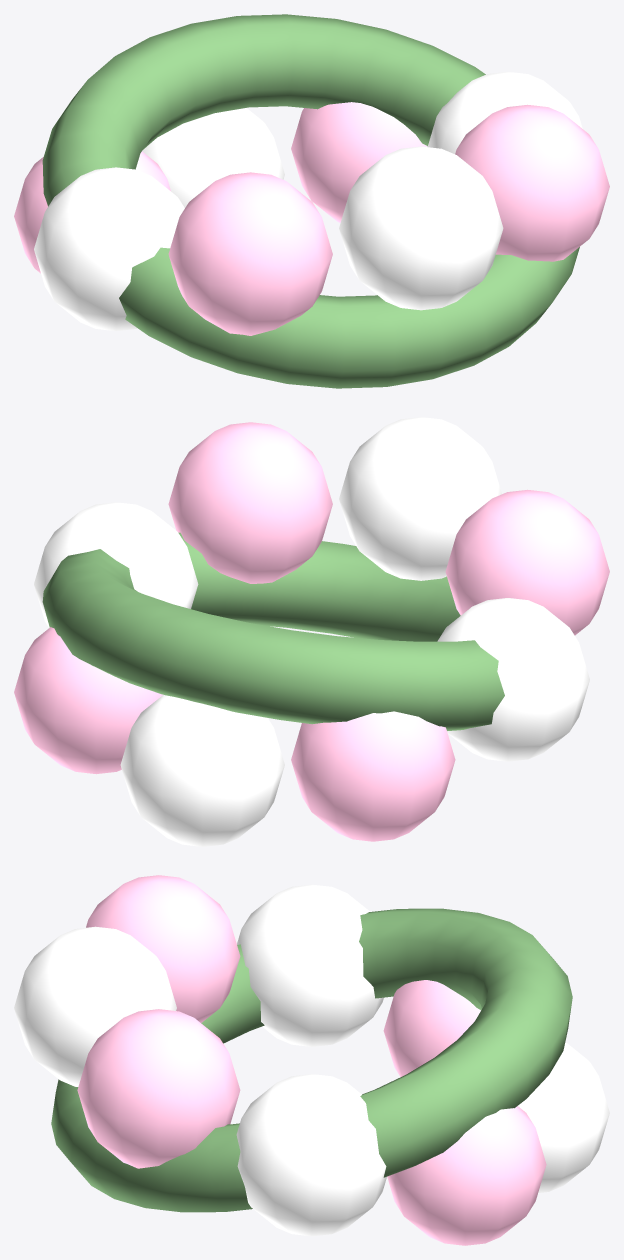
The model's file is fawn_wreath.glb.
3 views of the same model, one above another, from view 1: azimuth 30°, elevation 25°; view 2: azimuth 150°, elevation 25°; view 3: azimuth 270°, elevation 25° (orthographic).
Visible parts, largest first — view 1: fawn_wreath; view 2: fawn_wreath; view 3: fawn_wreath.
Part boxes in pixels (left/top/right/bottom): fawn_wreath: left=14, top=14, right=609, bottom=388; fawn_wreath: left=14, top=417, right=609, bottom=846; fawn_wreath: left=14, top=875, right=609, bottom=1245.
Bounding box in the file's own units: 0.9 × 0.4108 × 0.8775.
